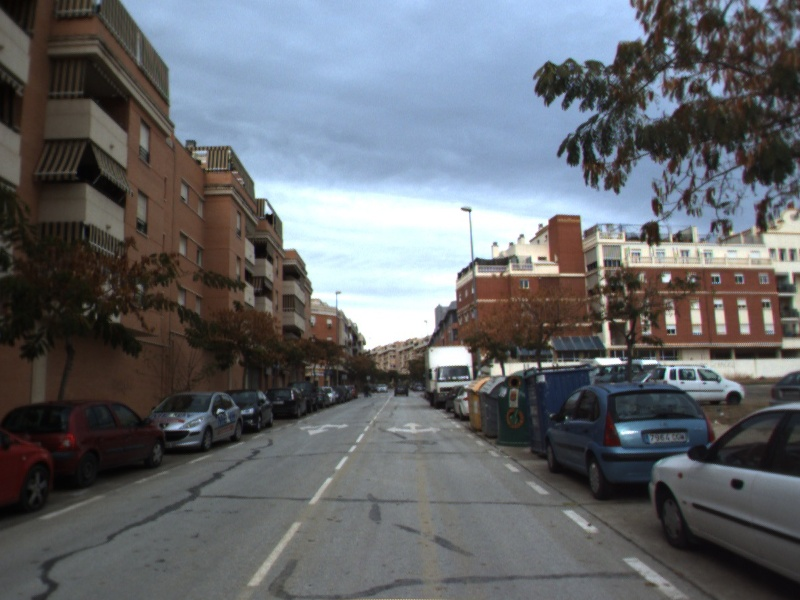STRAIGHT_LEFT_RIGHT: (384, 420, 443, 436)
